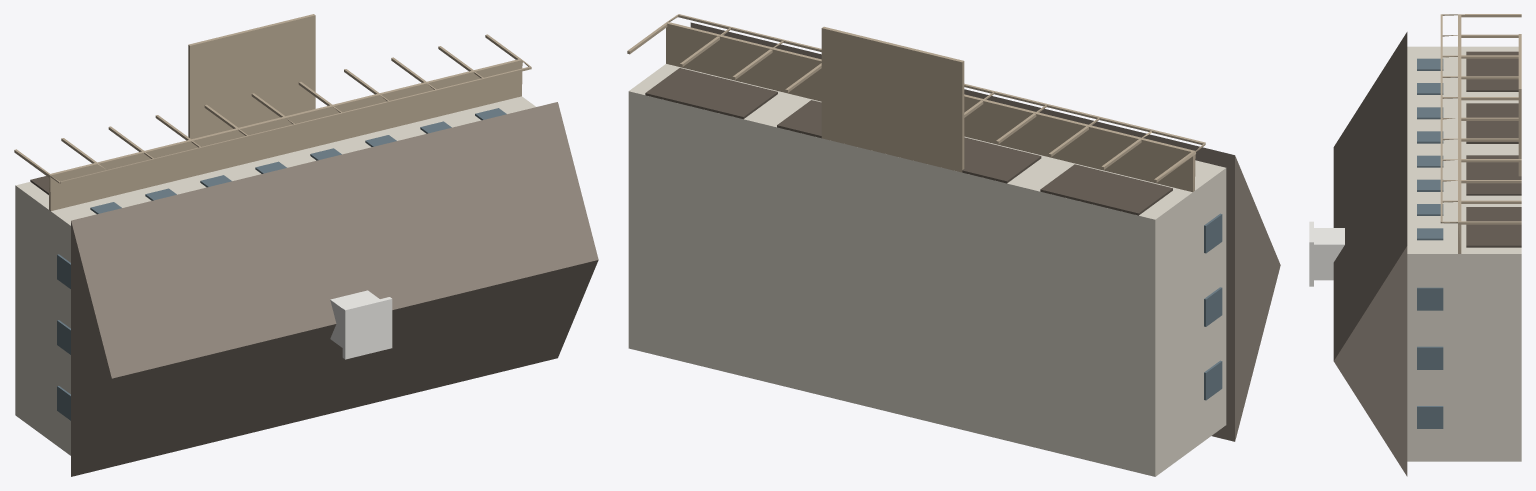
Rendered from r-109-narragansett-boat-club.glb.
The picture shows the model from 3 angles, left to right: view 1: azimuth 30°, elevation 25°; view 2: azimuth 150°, elevation 25°; view 3: azimuth 270°, elevation 25°; orthographic projection. The views are drawn at different scales.
Visible parts, largest first — view 1: roof, balcony, walls, cupola, windows; view 2: walls, balcony, roof, bay-doors, windows; view 3: walls, roof, bay-doors, balcony, windows, cupola.
Boxes of the visible parts, x1=… form: roof: x1=71, y1=102, x2=598, y2=476; balcony: x1=14, y1=14, x2=531, y2=210; walls: x1=15, y1=96, x2=535, y2=455; cupola: x1=330, y1=290, x2=392, y2=359; windows: x1=57, y1=108, x2=506, y2=420; walls: x1=628, y1=64, x2=1226, y2=476; balcony: x1=627, y1=14, x2=1205, y2=192; roof: x1=690, y1=22, x2=1280, y2=441; bay-doors: x1=645, y1=68, x2=1172, y2=215; windows: x1=1204, y1=213, x2=1222, y2=400; walls: x1=1407, y1=46, x2=1521, y2=461; roof: x1=1333, y1=32, x2=1407, y2=476; bay-doors: x1=1466, y1=51, x2=1521, y2=247; balcony: x1=1440, y1=14, x2=1521, y2=253; windows: x1=1417, y1=58, x2=1443, y2=428; cupola: x1=1309, y1=221, x2=1344, y2=286.
Size of the model in its own units: 31000 by 20800 by 13001.
